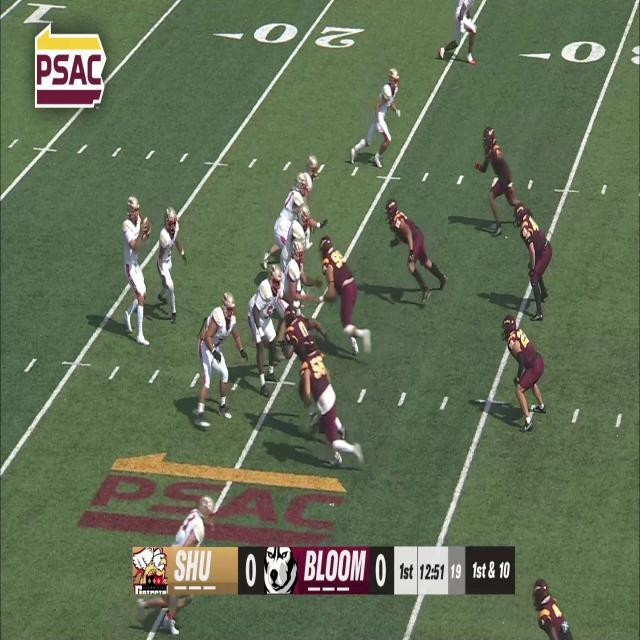football: (140, 216, 152, 236)
